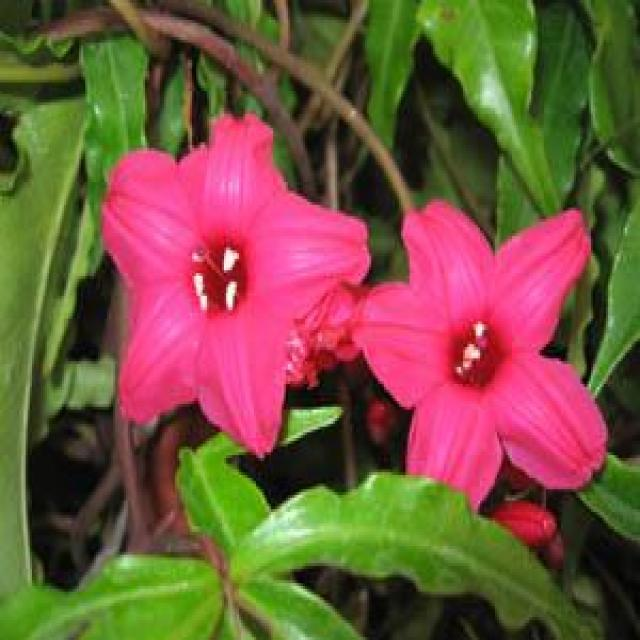organic waste: (340, 199, 614, 523), (100, 124, 367, 436)
